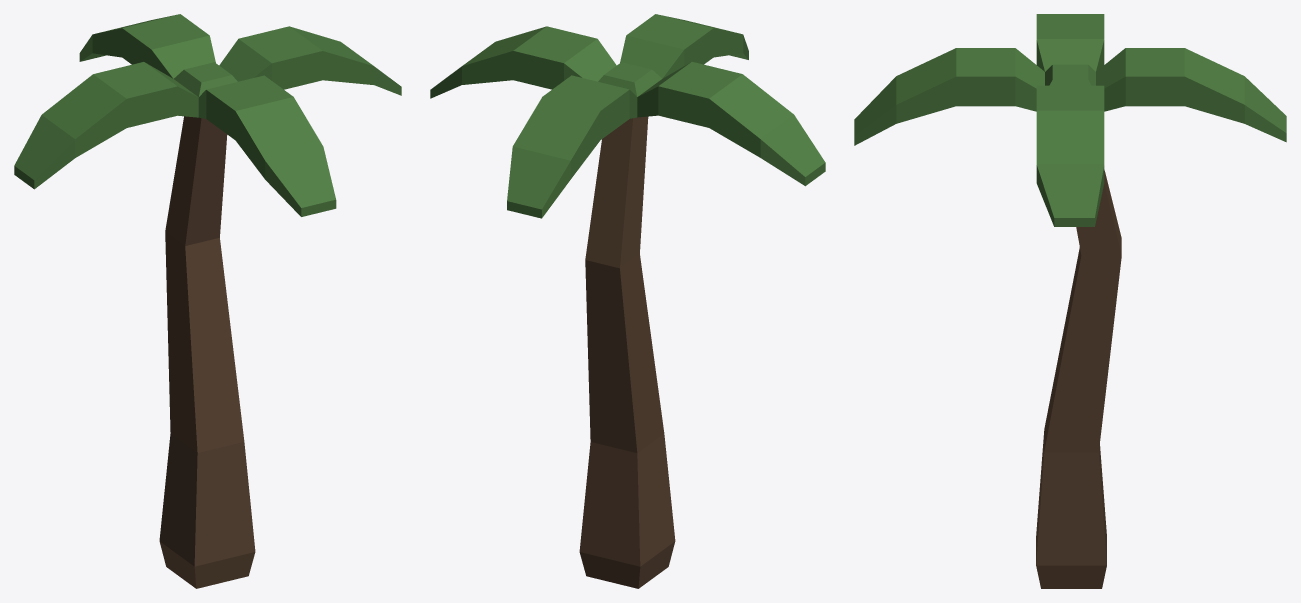
Rendered from nature-palm-tall.glb.
The picture shows the model from 3 angles, left to right: view 1: azimuth 30°, elevation 25°; view 2: azimuth 150°, elevation 25°; view 3: azimuth 270°, elevation 25°; orthographic projection.
Parts seen in each view (by area): view 1: tree_palmTall; view 2: tree_palmTall; view 3: tree_palmTall.
Part boxes in pixels (<box>): tree_palmTall: <box>14,14,401,588</box>; tree_palmTall: <box>430,14,825,588</box>; tree_palmTall: <box>854,14,1286,588</box>.
Bounding box in the file's own units: 1.03 × 1.36 × 1.03.
